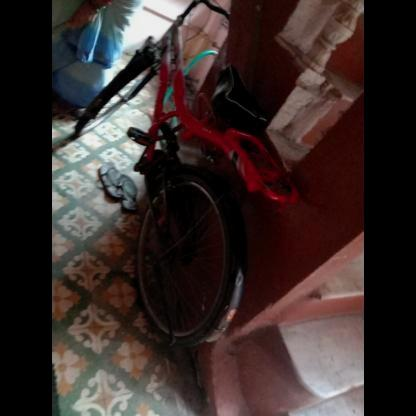Bicycle: (66, 2, 307, 360)
